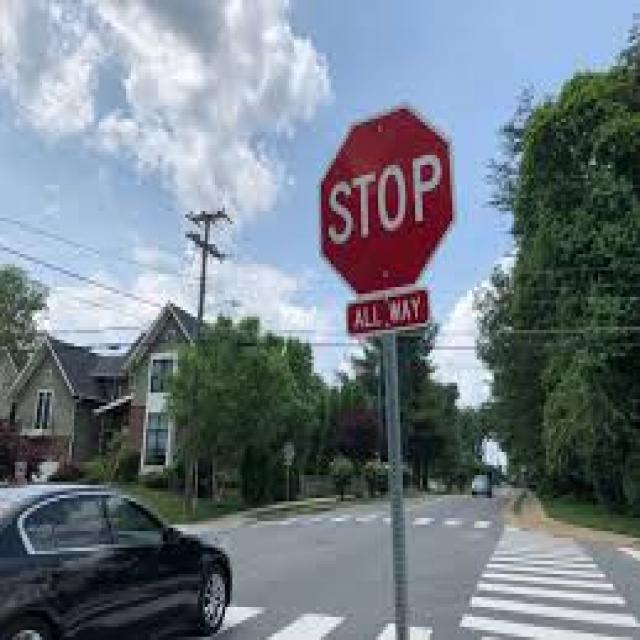stop-sign: (312, 132, 460, 265)
